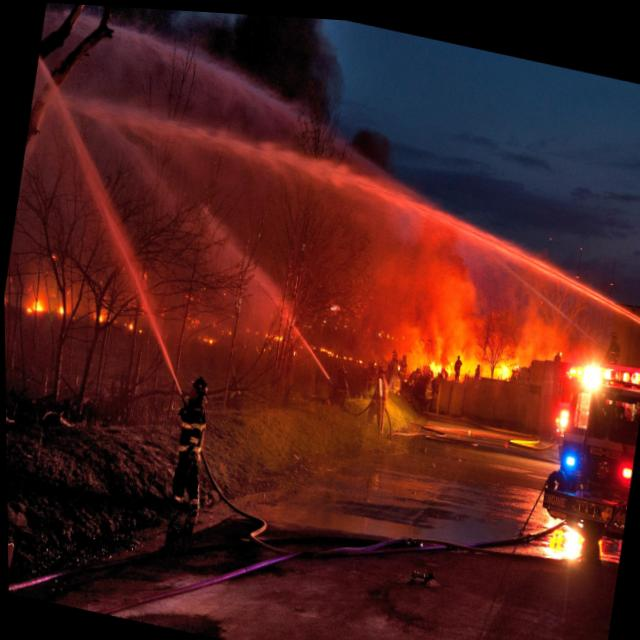fire: (315, 339, 364, 363), (22, 292, 51, 322), (424, 351, 455, 375), (493, 354, 516, 380), (455, 351, 479, 373), (268, 328, 285, 340), (198, 333, 215, 344), (57, 302, 67, 317), (95, 311, 104, 324), (127, 318, 133, 329), (290, 345, 296, 354)
